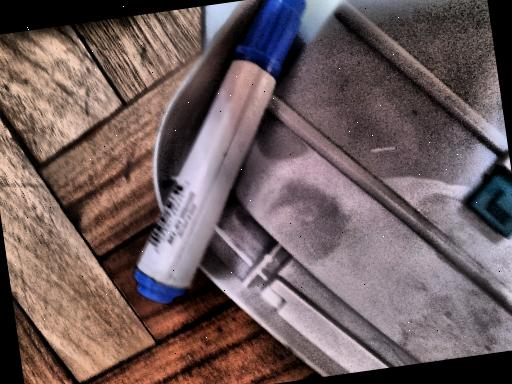marcador azul: (133, 0, 306, 303)
